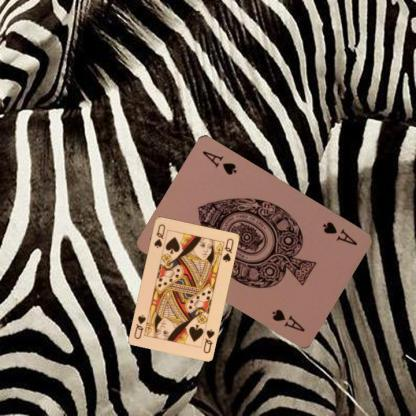As: (320, 219, 360, 247)
Qs: (200, 326, 216, 354), (152, 221, 166, 249)
